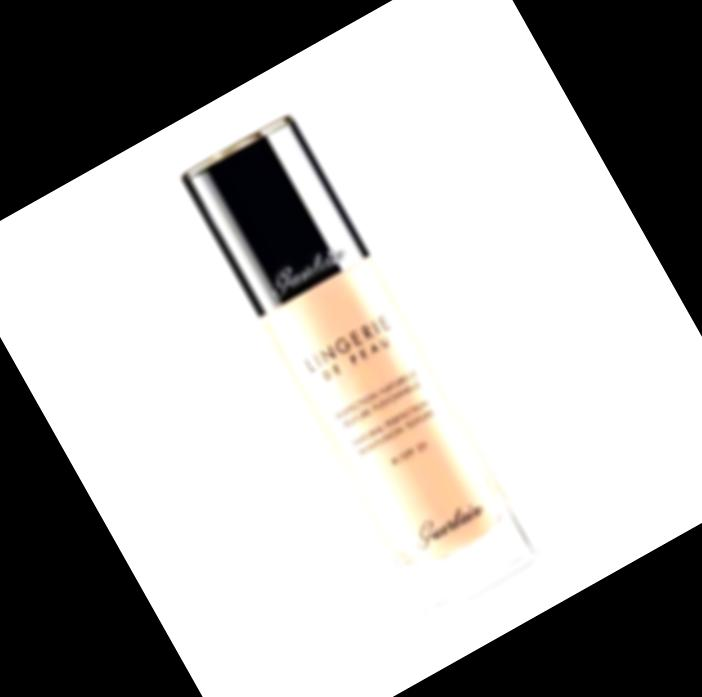cosmetic: (178, 108, 543, 618)
